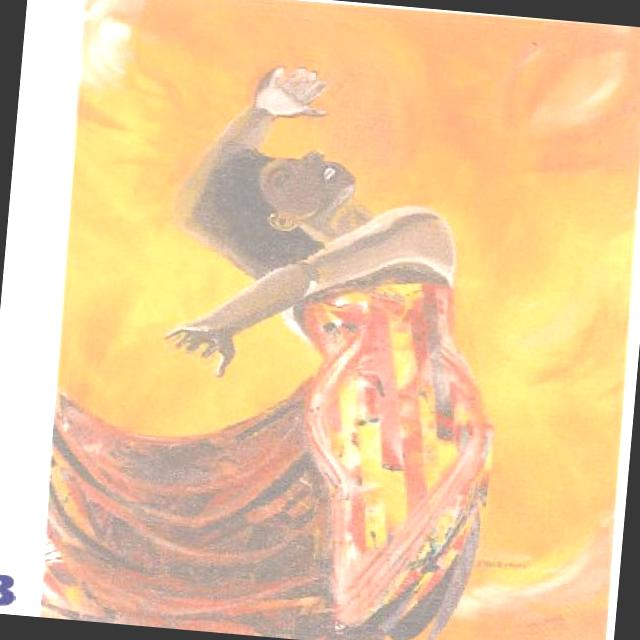Person: (17, 70, 561, 640)
